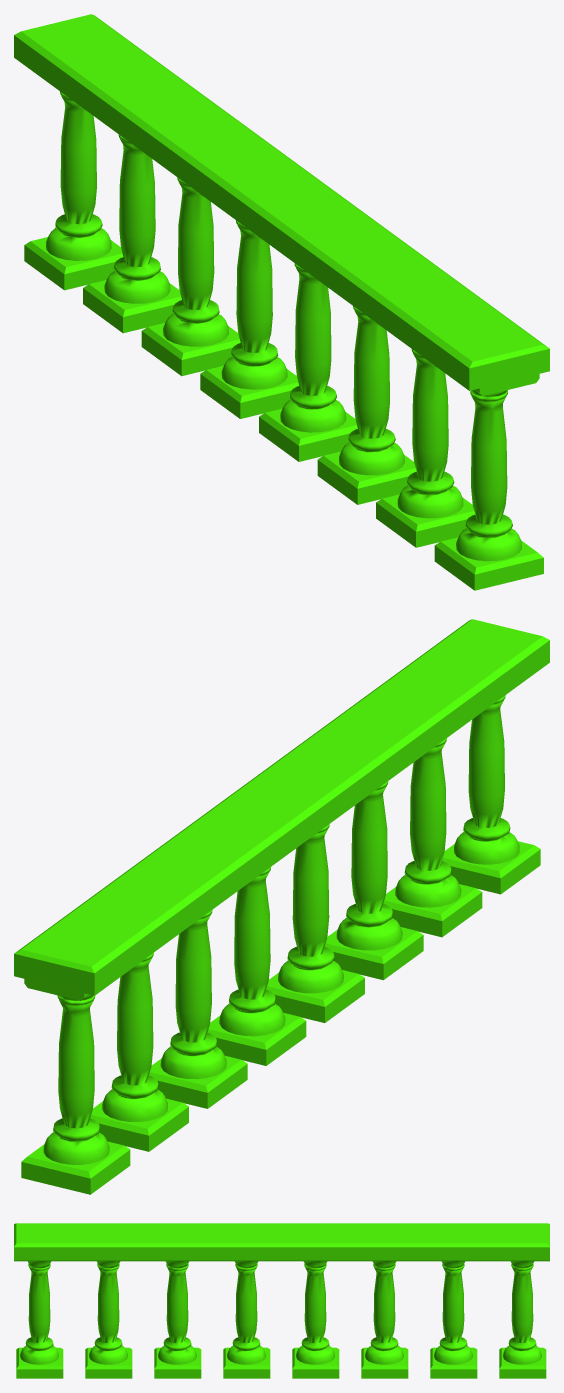
File: railing_edited_front.gltf
3 views of the same model, one above another, from view 1: azimuth 30°, elevation 25°; view 2: azimuth 150°, elevation 25°; view 3: azimuth 270°, elevation 25° (orthographic). The views are drawn at different scales.
Parts seen in each view (by area): view 1: polySurface17_M_tesuri_0; view 2: polySurface17_M_tesuri_0; view 3: polySurface17_M_tesuri_0.
Part boxes in pixels (box(x1,y1,x2,y2)): polySurface17_M_tesuri_0: box(14, 14, 549, 590); polySurface17_M_tesuri_0: box(14, 619, 549, 1194); polySurface17_M_tesuri_0: box(14, 1223, 549, 1378).
Bounding box in the file's own units: 35.74 × 97.21 × 350.
1 material, 1 textured.
